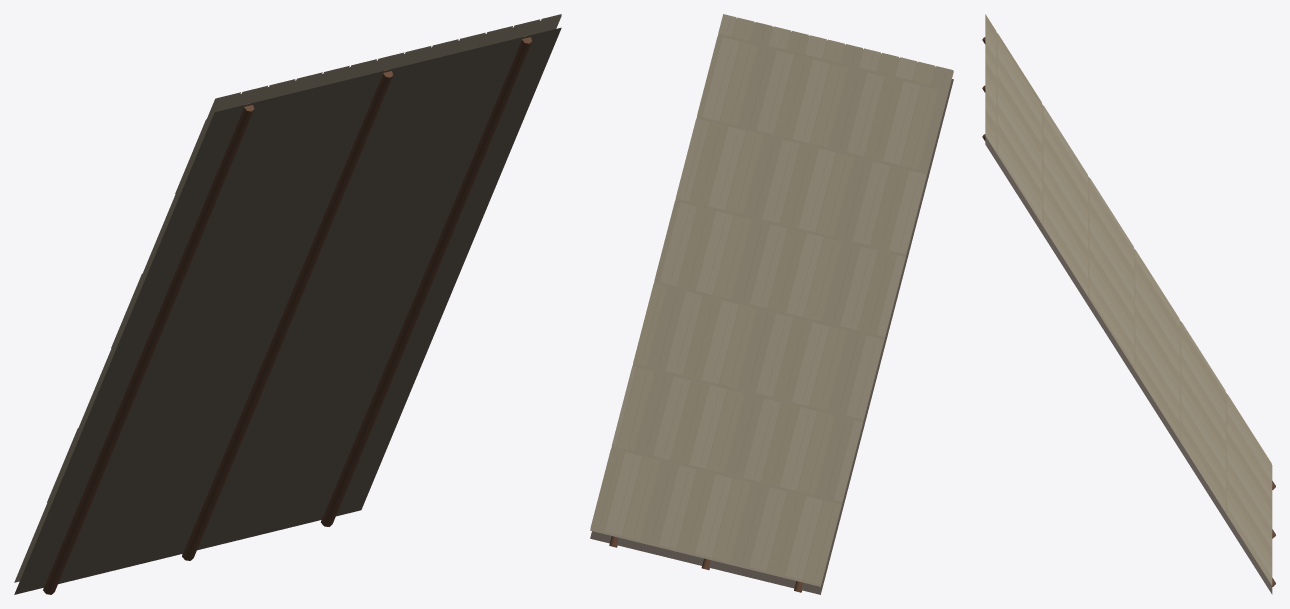
The model's file is Roof_Slope_60.glb.
3 views of the same model, side by side, from view 1: azimuth 30°, elevation 25°; view 2: azimuth 150°, elevation 25°; view 3: azimuth 270°, elevation 25° (orthographic). The views are drawn at different scales.
Visible parts, largest first — view 1: _MeshInstance3D_3487, _MeshInstance3D_3488, _MeshInstance3D_3490, _MeshInstance3D_3489; view 2: _MeshInstance3D_3487; view 3: _MeshInstance3D_3487.
Boxes of the visible parts, x1,y1,x2,y2 form: _MeshInstance3D_3487: (14, 14, 561, 594); _MeshInstance3D_3488: (43, 103, 254, 594); _MeshInstance3D_3490: (321, 35, 531, 526); _MeshInstance3D_3489: (182, 69, 393, 560); _MeshInstance3D_3487: (590, 14, 953, 594); _MeshInstance3D_3487: (985, 14, 1272, 594).
Bounding box in the file's own units: 3 × 5.36 × 3.07.
